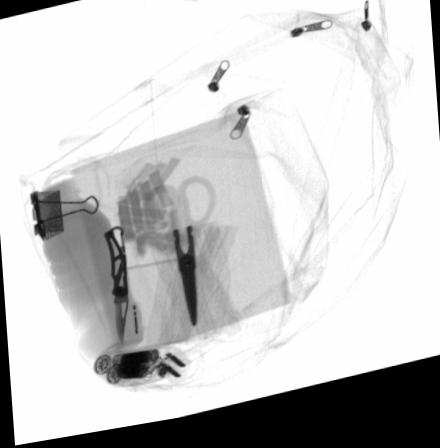Knife: (103, 229, 128, 350)
Scissors: (140, 181, 216, 333)
